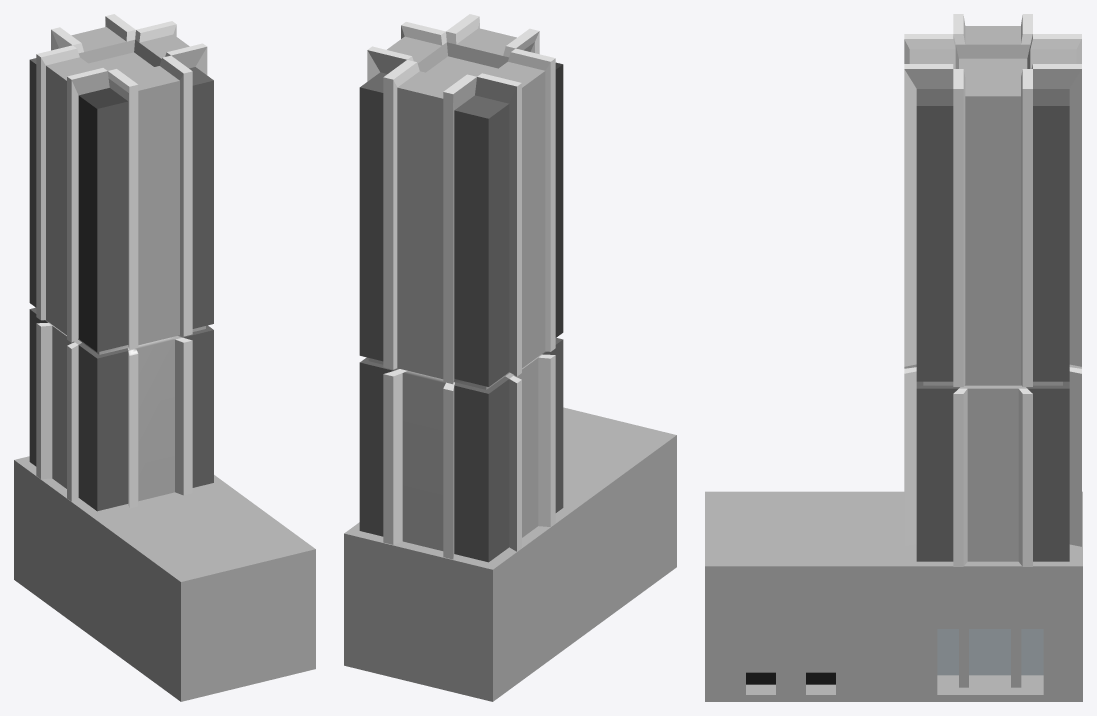
The model's file is fbx_building_4.fbx.
3 renders of one model, left to right at view 1: azimuth 30°, elevation 25°; view 2: azimuth 150°, elevation 25°; view 3: azimuth 270°, elevation 25°, orthographic. The views are drawn at different scales.
Visible parts, largest first — view 1: fbx_building_4; view 2: fbx_building_4; view 3: fbx_building_4.
Boxes of the visible parts, x1,y1,x2,y2 form: fbx_building_4: (14, 14, 315, 701); fbx_building_4: (344, 14, 676, 701); fbx_building_4: (705, 14, 1082, 701).
Bounding box in the file's own units: 10.72 × 40.81 × 22.78.
Materials: 2 (1 with a texture image).
